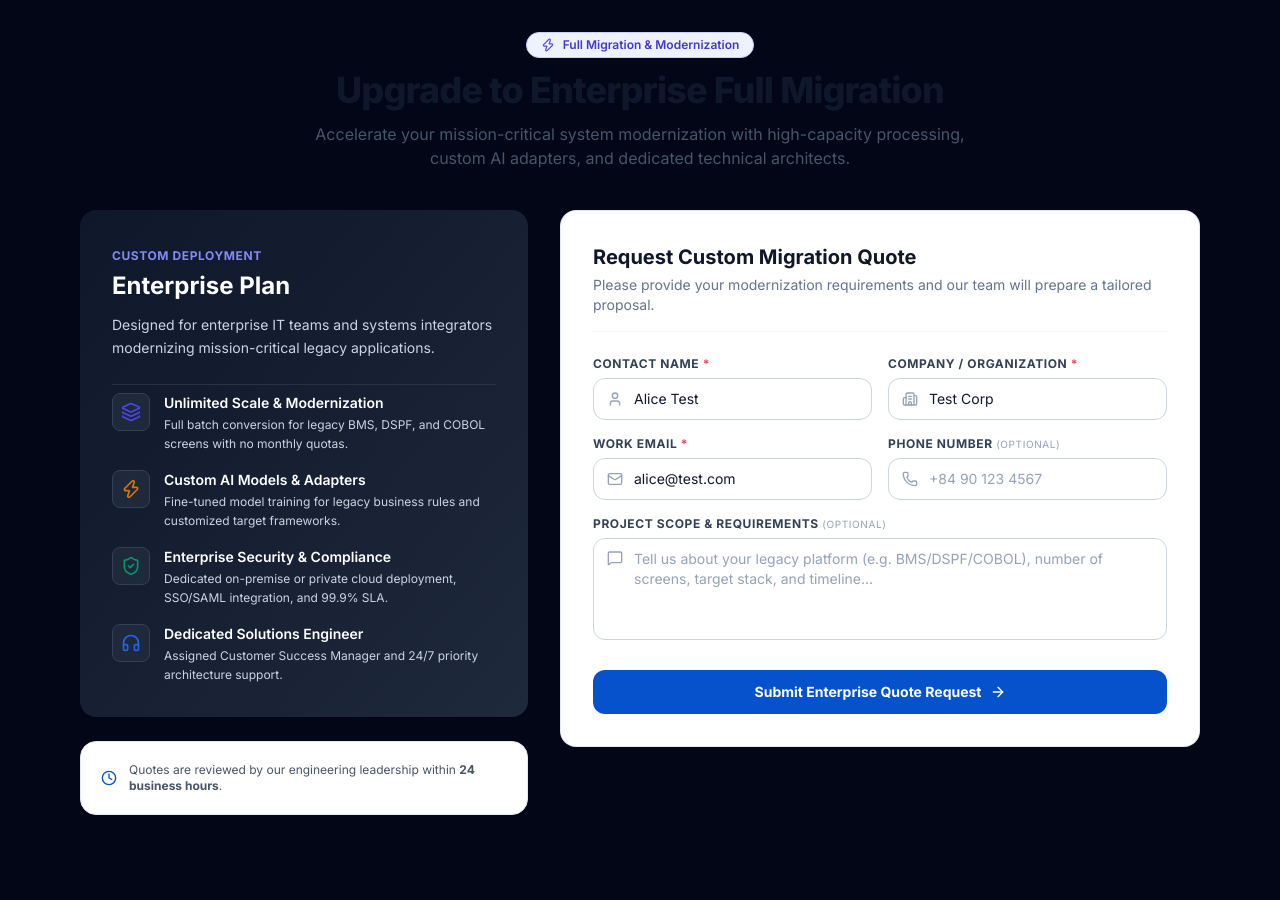
RequestEnterprisePage › submits quote request successfully and displays quote confirmation
Click the button "Submit Enterprise Quote Request" at (880, 692), box x1=593 y1=670 x2=1167 y2=714
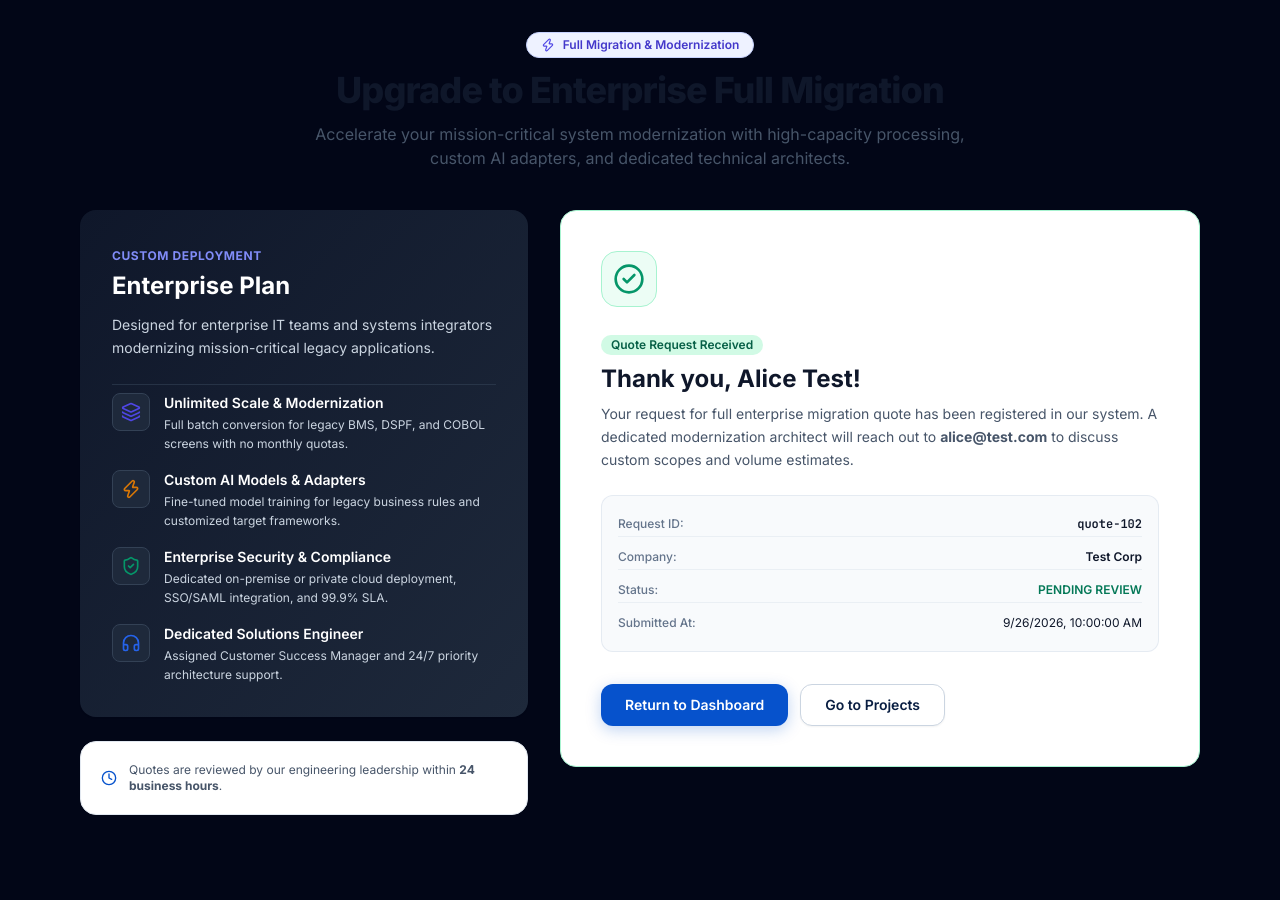
Expected: the heading "Thank you, Alice Test!" is shown, x1=601 y1=364 x2=861 y2=393
Expected: the text "quote-102" is shown, x1=1077 y1=516 x2=1142 y2=532
